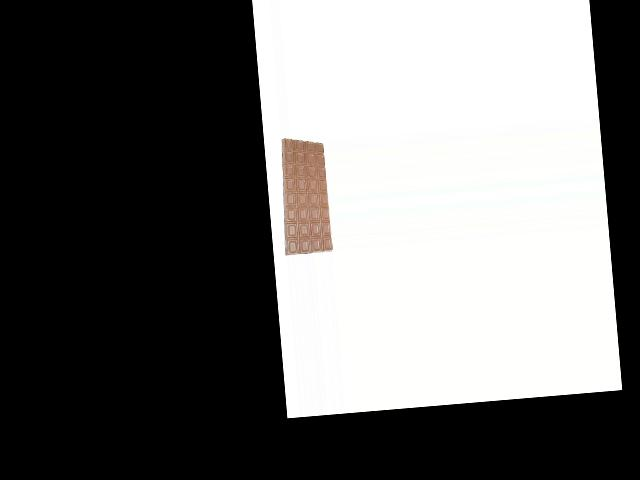chocolate: (276, 133, 333, 256)
